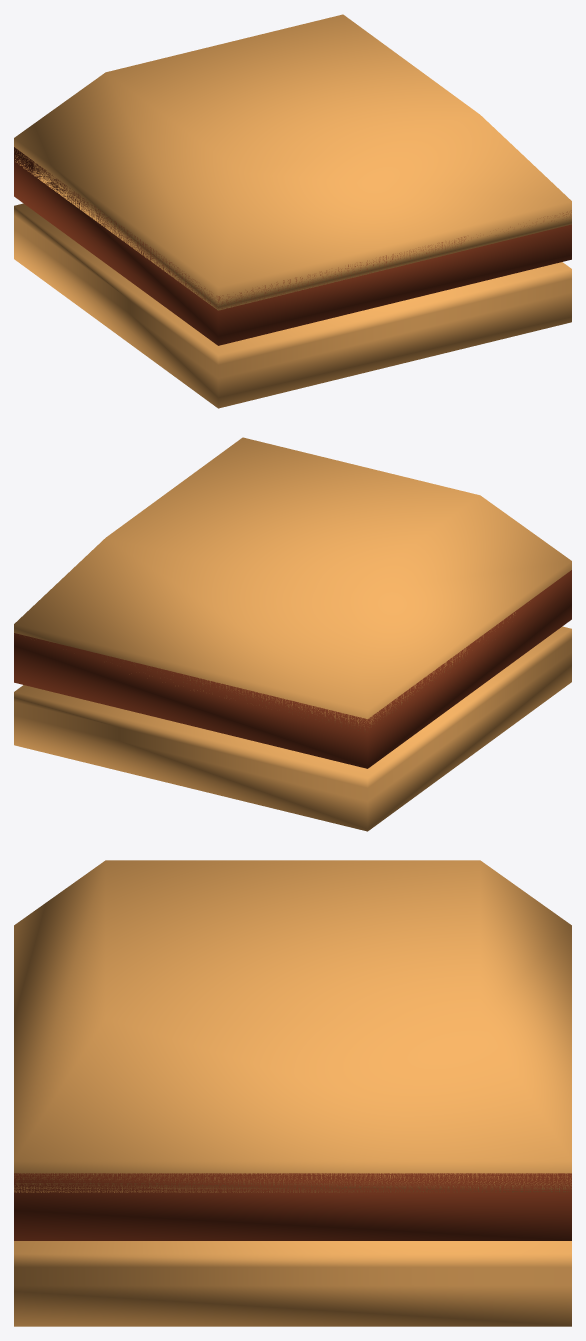
The model's file is borger.glb.
3 views of the same model, one above another, from view 1: azimuth 30°, elevation 25°; view 2: azimuth 150°, elevation 25°; view 3: azimuth 270°, elevation 25° (orthographic). The views are drawn at different scales.
Parts seen in each view (by area): view 1: Cube.002, Cube, Cube.001; view 2: Cube.002, Cube, Cube.001; view 3: Cube.002, Cube, Cube.001.
Part boxes in pixels (<box>): Cube.002: <box>14,14,571,310</box>; Cube: <box>14,203,571,408</box>; Cube.001: <box>14,147,571,345</box>; Cube.002: <box>14,437,571,731</box>; Cube: <box>14,626,571,831</box>; Cube.001: <box>14,570,571,768</box>; Cube.002: <box>14,860,571,1192</box>; Cube: <box>14,1241,571,1326</box>; Cube.001: <box>14,1173,571,1240</box>.
Size of the model in its own units: 9.92 by 5.28 by 9.92.
